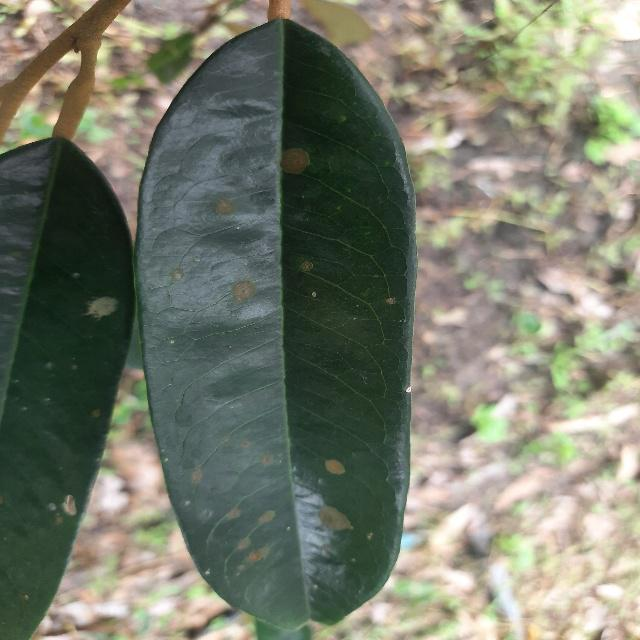Algal Leaf Spot: (129, 17, 423, 639)
